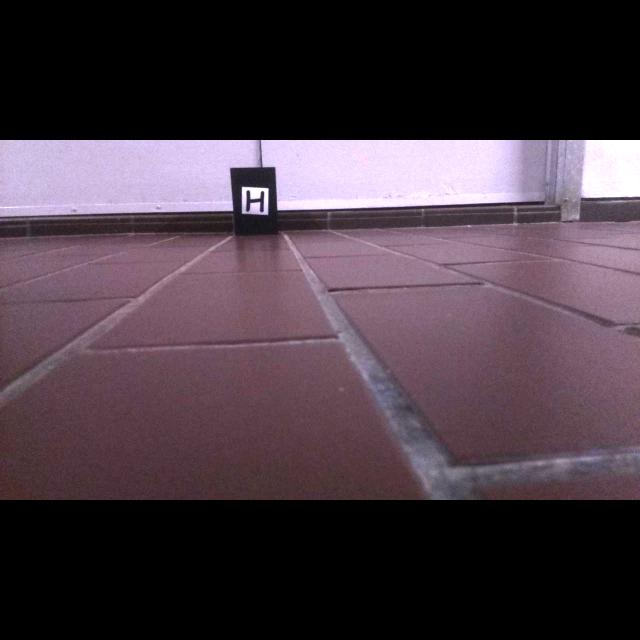H: (245, 190, 265, 212)
